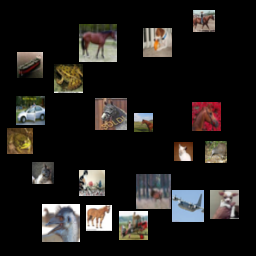airplane: (47, 150, 76, 179)
automobile: (153, 20, 191, 58), (5, 203, 43, 241)
bird: (198, 207, 227, 236), (156, 78, 175, 97), (201, 125, 217, 141)
deer: (133, 126, 162, 155), (165, 202, 194, 231)
dog: (78, 145, 100, 167)
frog: (81, 173, 113, 205), (124, 172, 156, 204)
ship: (64, 26, 99, 61), (89, 116, 115, 142), (23, 78, 45, 100), (47, 88, 69, 110), (162, 165, 178, 181)
